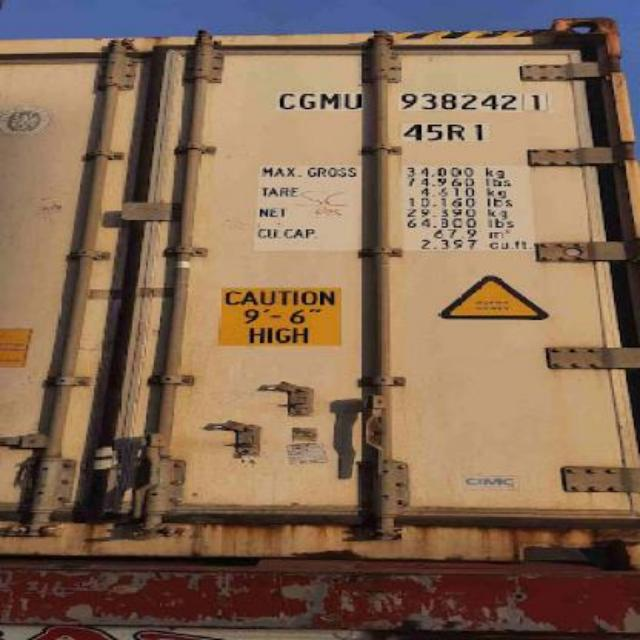1: (522, 93, 548, 111)
2: (501, 94, 522, 110), (460, 94, 478, 110)
3: (418, 93, 439, 109)
4: (478, 94, 502, 110)
8: (440, 93, 460, 109)
9: (398, 93, 418, 109)
C: (276, 92, 298, 110)
G: (298, 93, 318, 109)
M: (318, 93, 342, 109)
U: (342, 93, 363, 109)
